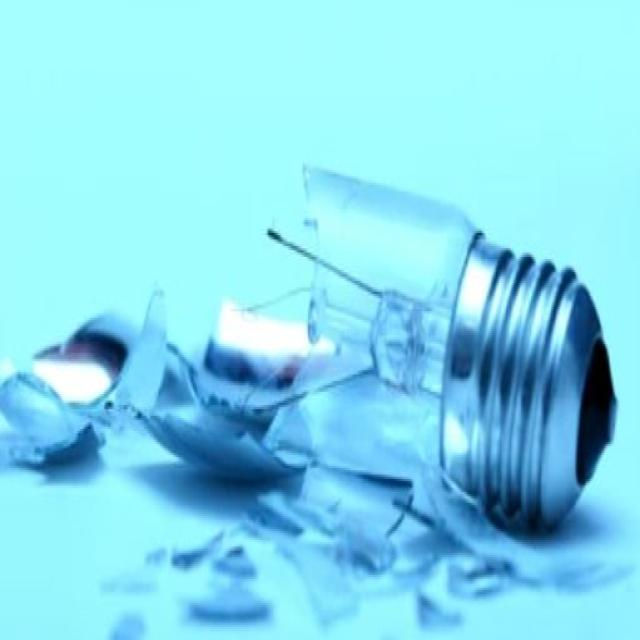electronic: (288, 159, 619, 535)
